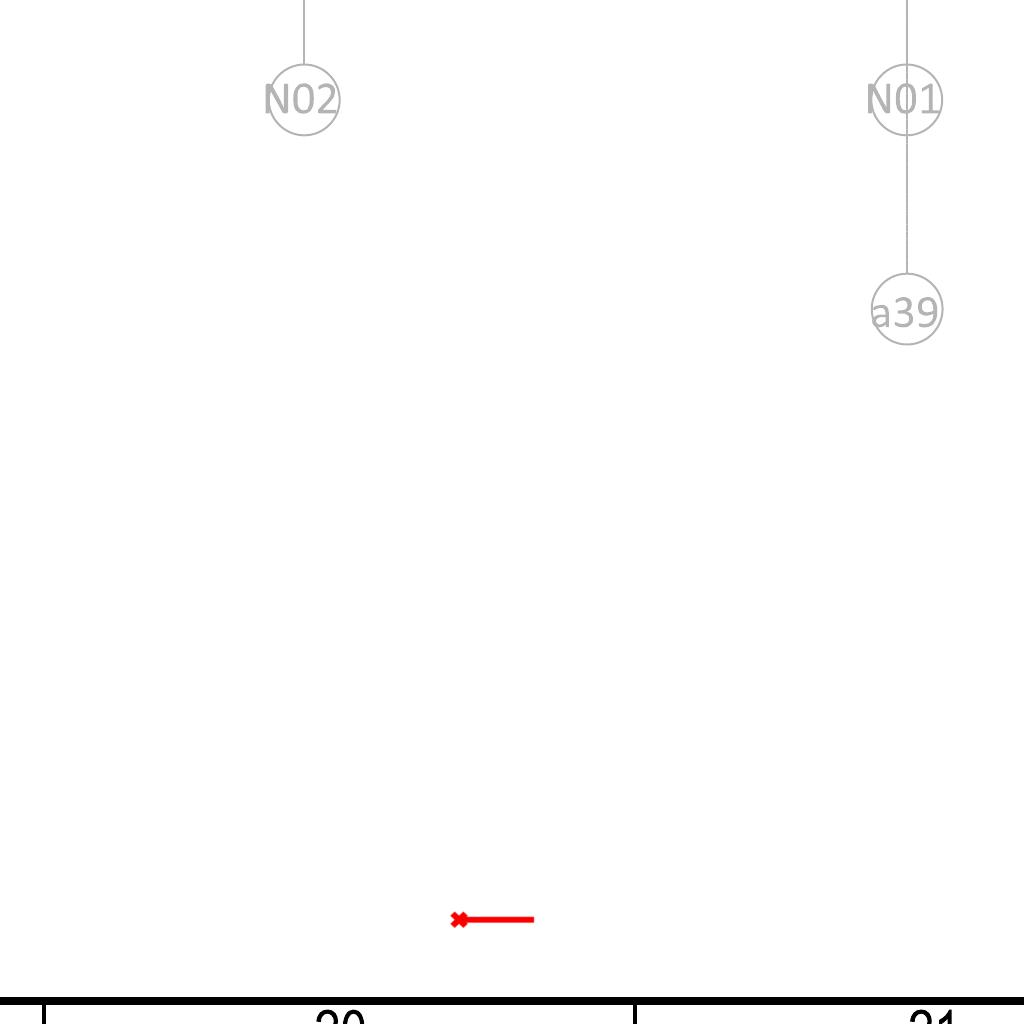ASR_Ansaugoeffnung: (449, 907, 537, 930)
